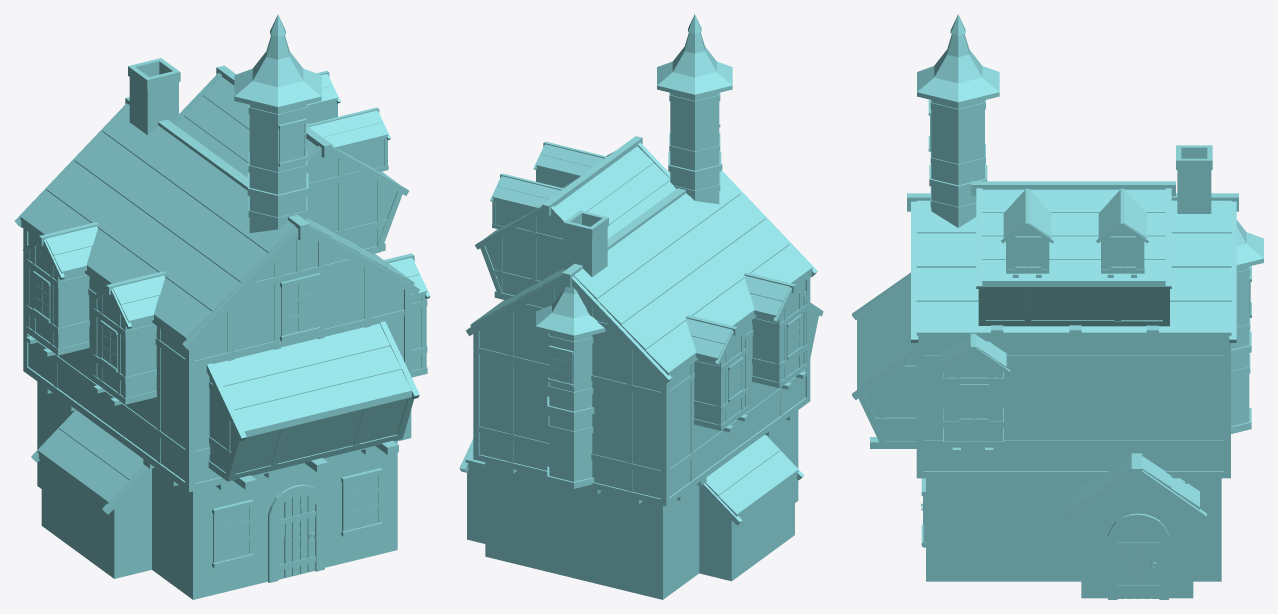
File: Mega_Asset_s_Pack_Cube_778.FBX
3 renders of one model, left to right at view 1: azimuth 30°, elevation 25°; view 2: azimuth 150°, elevation 25°; view 3: azimuth 270°, elevation 25°, orthographic. The views are drawn at different scales.
Visible parts, largest first — view 1: Mega_Asset_s_Pack_Cube_778; view 2: Mega_Asset_s_Pack_Cube_778; view 3: Mega_Asset_s_Pack_Cube_778.
Part boxes in pixels (x1,y1,x2,y2): Mega_Asset_s_Pack_Cube_778: (14, 14, 430, 599); Mega_Asset_s_Pack_Cube_778: (459, 14, 823, 599); Mega_Asset_s_Pack_Cube_778: (852, 14, 1263, 599).
Size of what is drawn, in the model's own units: 1533 by 1948 by 2718.
